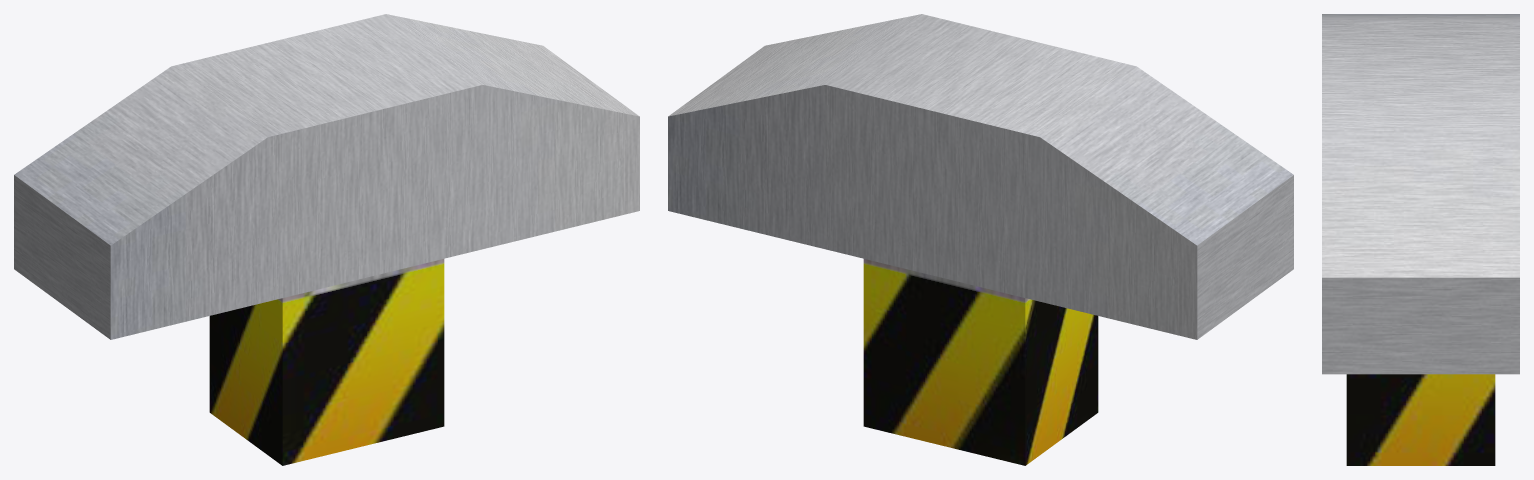
Rendered from HammerLvl2.FBX.
The picture shows the model from 3 angles, left to right: view 1: azimuth 30°, elevation 25°; view 2: azimuth 150°, elevation 25°; view 3: azimuth 270°, elevation 25°; orthographic projection. The views are drawn at different scales.
Visible parts, largest first — view 1: Hammer_Lvl2; view 2: Hammer_Lvl2; view 3: Hammer_Lvl2.
Boxes of the visible parts, x1=… form: Hammer_Lvl2: x1=14, y1=14, x2=639, y2=465; Hammer_Lvl2: x1=668, y1=14, x2=1293, y2=465; Hammer_Lvl2: x1=1322, y1=14, x2=1519, y2=465.
Bounding box in the file's own units: 18.52 × 11.5 × 5.87.
